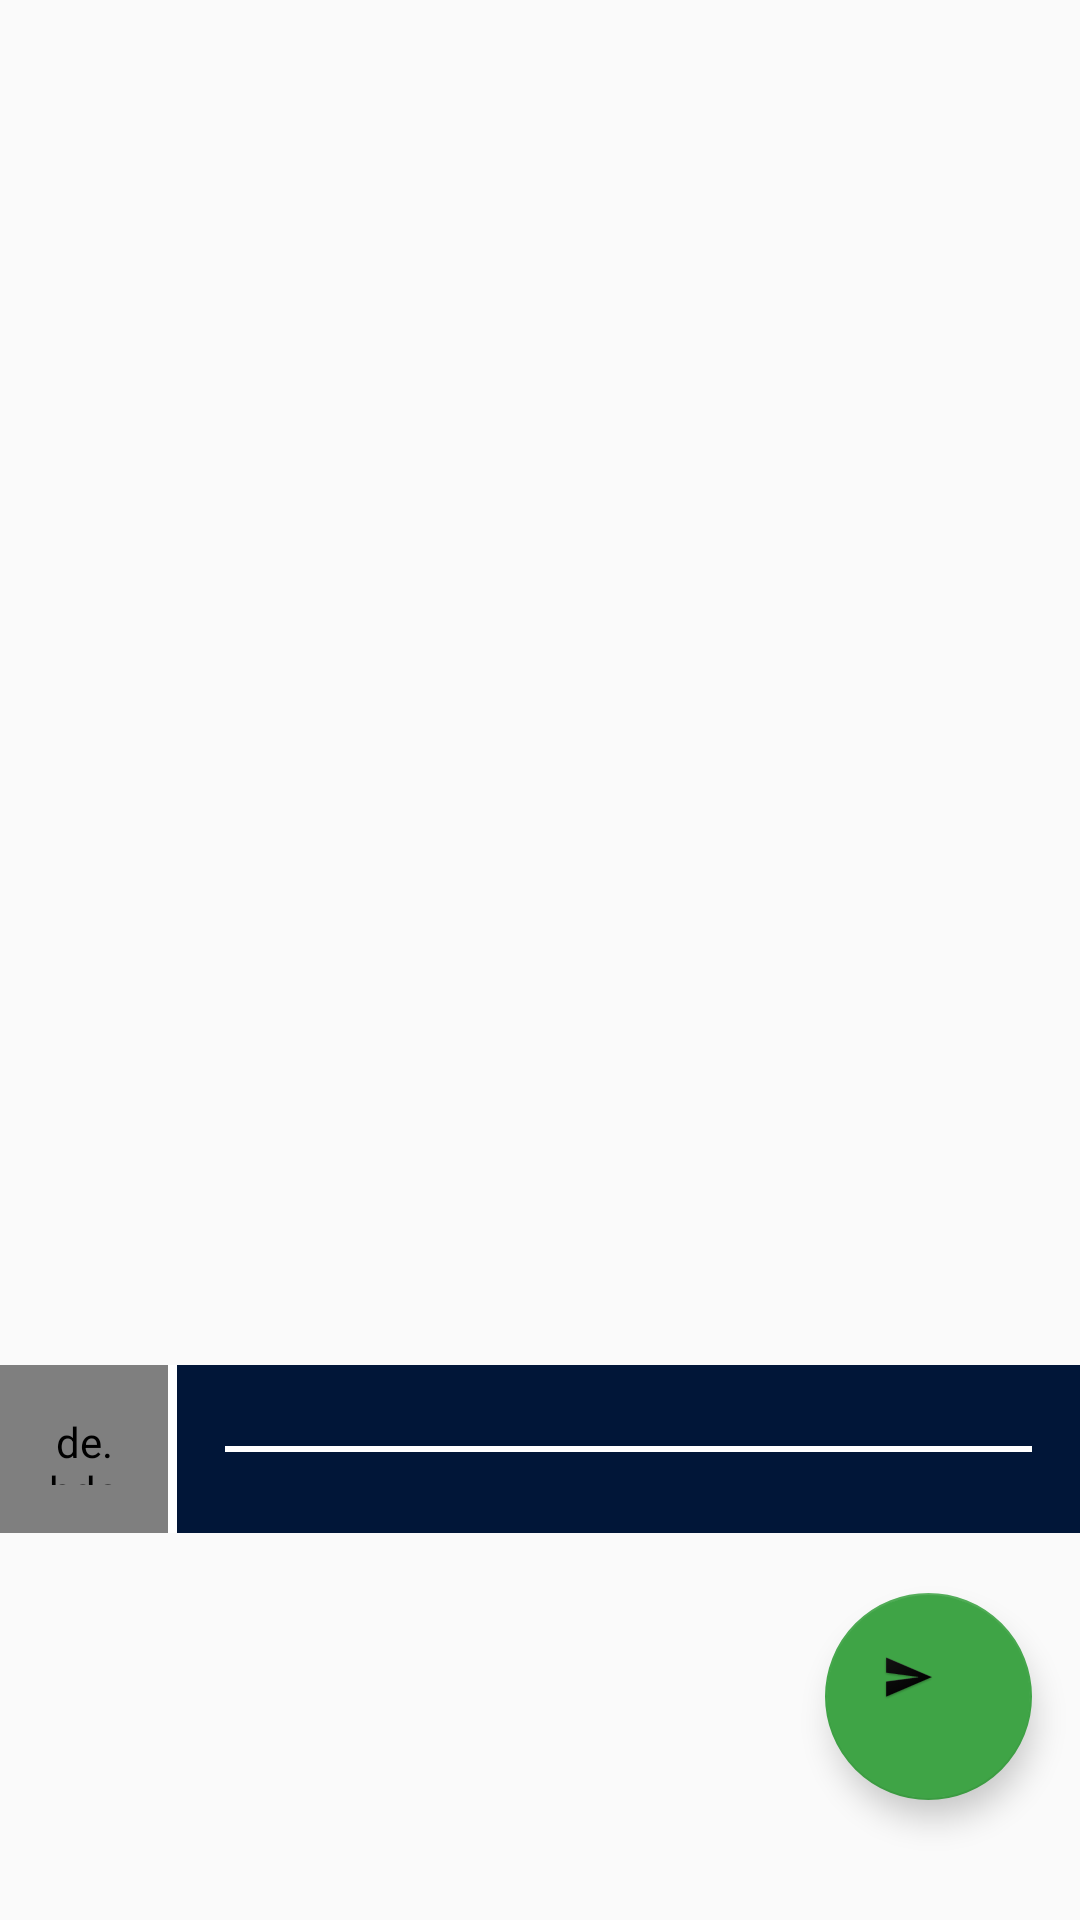

Icons on this 1080 x 1920 Android screen, each with the point to tap as (x,y):
send: (928,1696)
